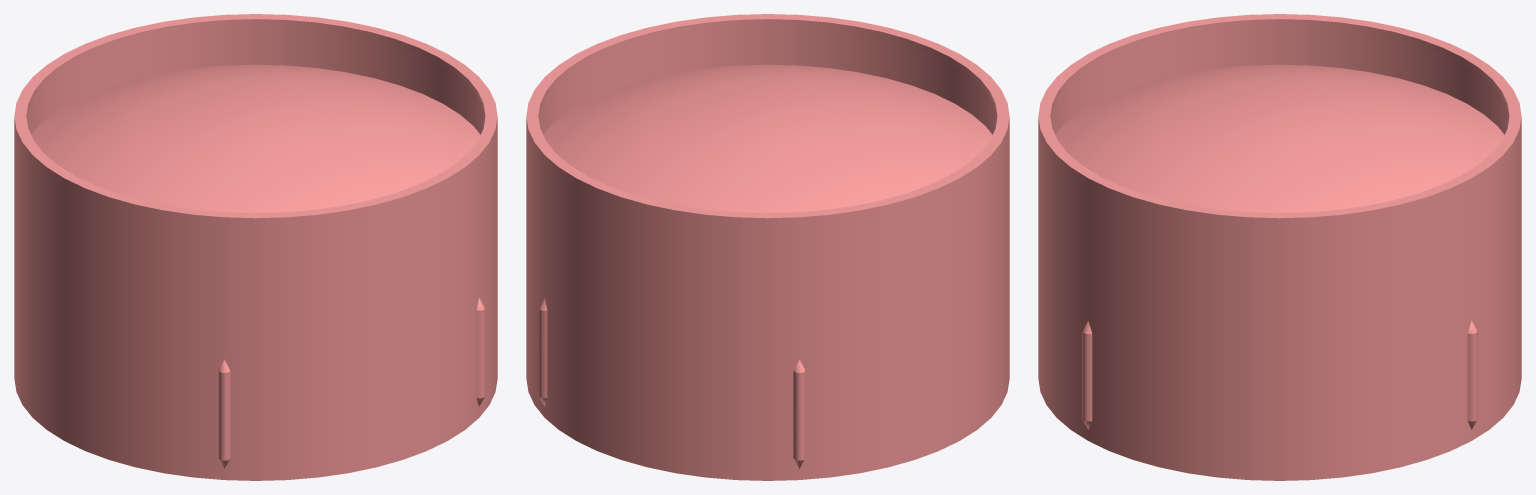
File: RLV_1_LFO_4.obj
3 renders of one model, left to right at view 1: azimuth 30°, elevation 25°; view 2: azimuth 150°, elevation 25°; view 3: azimuth 270°, elevation 25°, orthographic.
Parts seen in each view (by area): view 1: RLV_1_LFO_4; view 2: RLV_1_LFO_4; view 3: RLV_1_LFO_4.
Part boxes in pixels (x1,y1,x2,y2): RLV_1_LFO_4: (14,14,497,480); RLV_1_LFO_4: (526,14,1009,480); RLV_1_LFO_4: (1038,14,1521,480).
Size of the model in its own units: 5 by 3 by 5.
